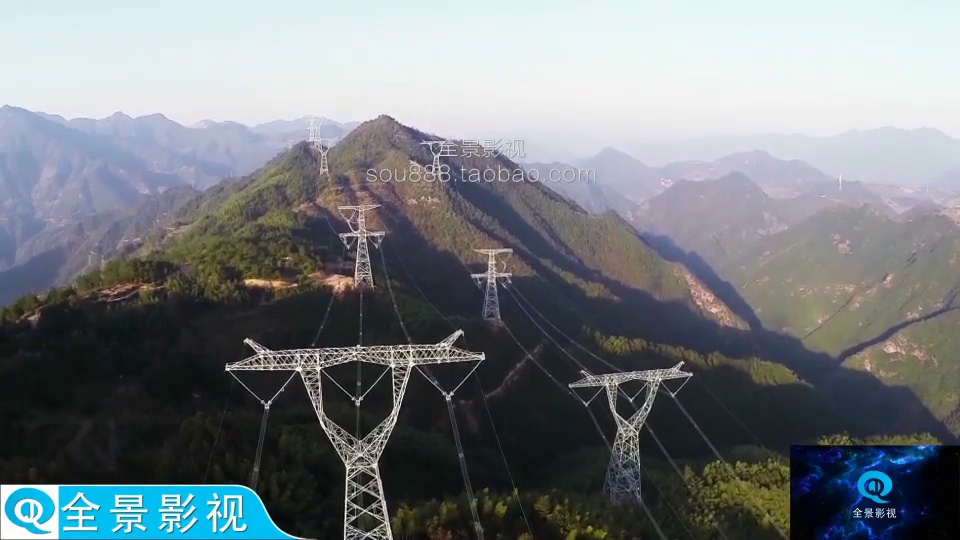tower_body: (222, 325, 488, 540), (563, 353, 697, 519), (332, 197, 388, 299), (462, 240, 524, 329)
tower_foot: (336, 494, 398, 540), (600, 462, 647, 516), (478, 296, 505, 325), (353, 260, 375, 294)
tower_head: (224, 330, 483, 464), (568, 360, 694, 430), (467, 244, 518, 259), (337, 199, 383, 213)
